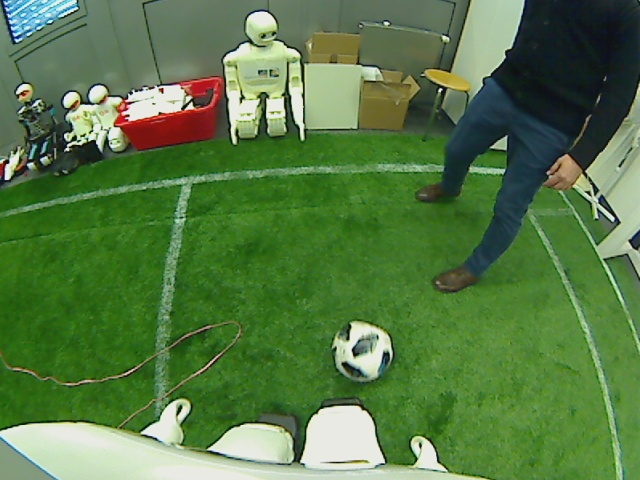ball: (330, 318, 394, 384)
